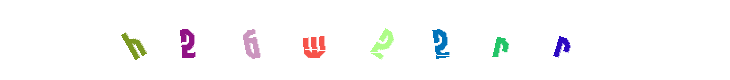2: (147, 0, 227, 80), (322, 0, 402, 80), (326, 0, 406, 80)
6: (248, 0, 328, 80)
H: (93, 0, 173, 80)
R: (447, 0, 527, 80), (460, 0, 540, 80)
W: (273, 0, 353, 80)
